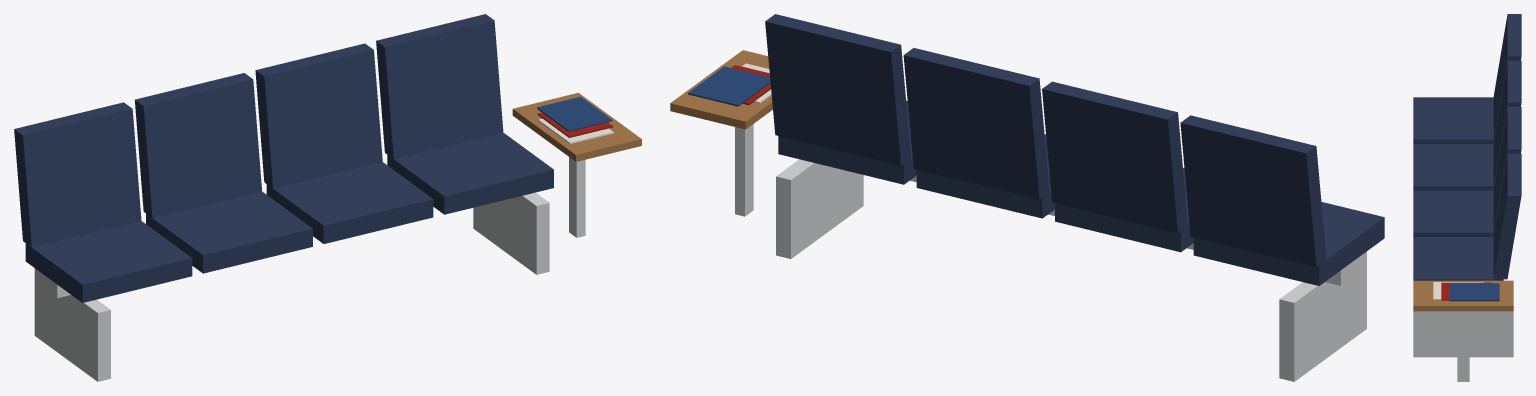
Rendered from waiting_chairs.glb.
The picture shows the model from 3 angles, left to right: view 1: azimuth 30°, elevation 25°; view 2: azimuth 150°, elevation 25°; view 3: azimuth 270°, elevation 25°; orthographic projection. The views are drawn at different scales.
Parts seen in each view (by area): view 1: waiting_chairs; view 2: waiting_chairs; view 3: waiting_chairs.
Boxes of the visible parts, left/top/right/bottom form: waiting_chairs: left=14, top=14, right=641, bottom=381; waiting_chairs: left=670, top=14, right=1384, bottom=381; waiting_chairs: left=1413, top=14, right=1521, bottom=381.
Bounding box in the file's own units: 2.55 × 0.9 × 0.54.
1 material, 1 textured.
